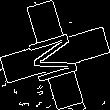M_E: (24, 26, 86, 84)
